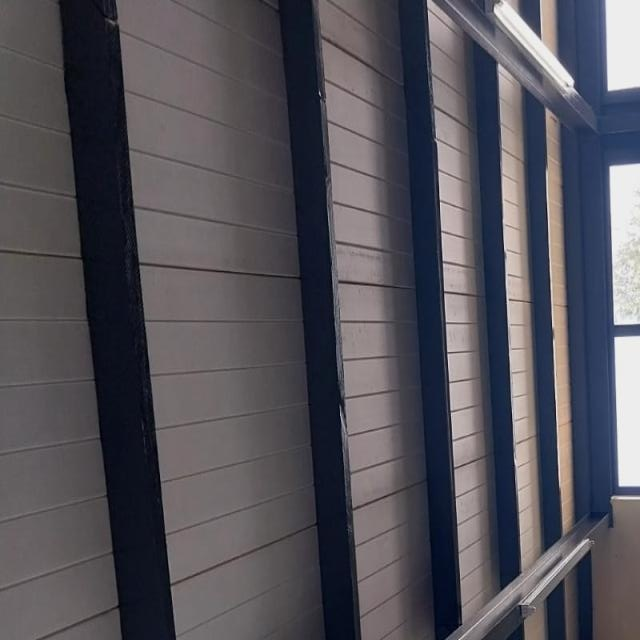fluorescent tube: (508, 501, 616, 640), (486, 0, 594, 118)
